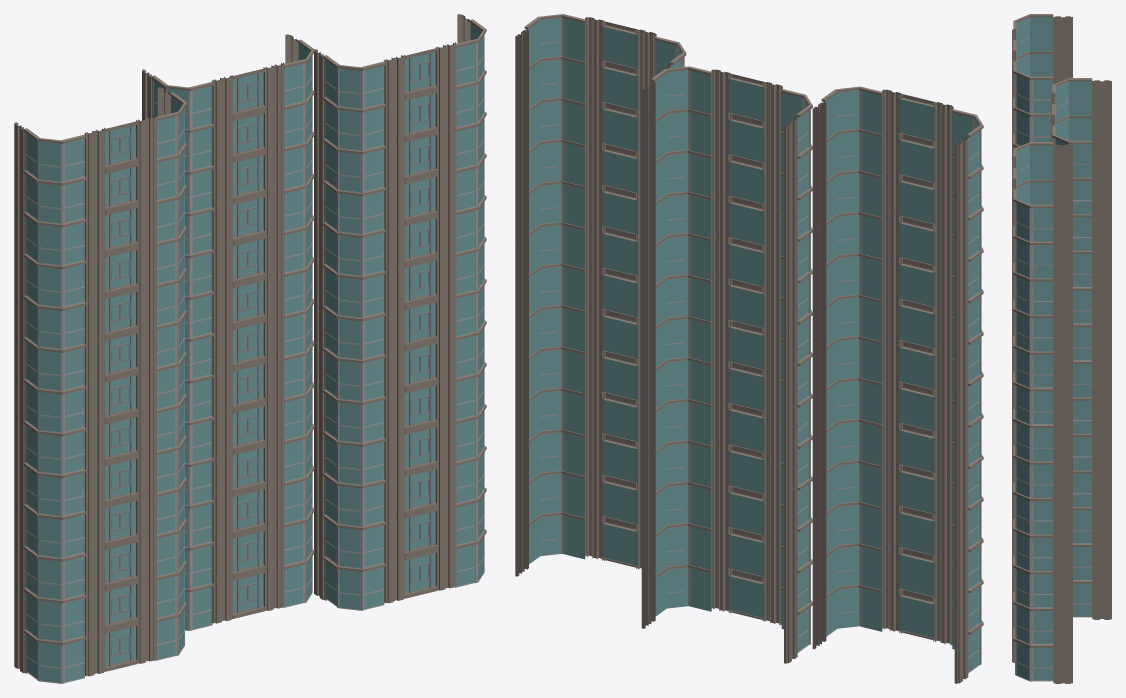
The model's file is 99WestApartments.fbx.
3 renders of one model, left to right at view 1: azimuth 30°, elevation 25°; view 2: azimuth 150°, elevation 25°; view 3: azimuth 270°, elevation 25°, orthographic. The views are drawn at different scales.
Visible parts, largest first — view 1: pCube95, pCube115, pCube120, pCube83, pCube112, pCube114, pCube118, pCube92, pCube93, pCube110, pCube94, pCube109 (+27 smaller); view 2: pCube95, pCube102, pCube87, pCube83, pCube94, pCube91, pCube86, pCube88, pCube90, pCube85, pCube89, pCube84 (+27 smaller); view 3: pCube115, pCube102, pCube95, pCube114, pCube101, pCube94, pCube120, pCube113, pCube109, pCube119, pCube111, pCube121 (+16 smaller).
Boxes of the visible parts, box(x1,y1,x2,y2) form: pCube95: box(14, 87, 186, 182); pCube115: box(314, 14, 486, 109); pCube120: box(314, 529, 486, 610); pCube83: box(14, 602, 186, 683); pCube112: box(314, 237, 486, 318); pCube114: box(314, 70, 486, 151); pCube118: box(314, 404, 486, 485); pCube92: box(14, 226, 186, 307); pCube93: box(14, 184, 186, 265); pCube110: box(314, 153, 486, 234); pCube94: box(14, 143, 186, 224); pCube109: box(314, 195, 486, 276); pCube95: box(812, 86, 983, 186); pCube102: box(641, 66, 812, 166); pCube87: box(812, 419, 983, 517); pCube83: box(812, 584, 983, 683); pCube94: box(812, 129, 983, 227); pCube91: box(812, 253, 983, 352); pCube86: box(812, 460, 983, 559); pCube88: box(812, 377, 983, 476); pCube90: box(812, 294, 983, 393); pCube85: box(812, 502, 983, 600); pCube89: box(812, 336, 983, 435); pCube84: box(812, 543, 983, 642); pCube115: box(1012, 142, 1072, 244); pCube102: box(1051, 78, 1111, 180); pCube95: box(1012, 14, 1072, 113); pCube114: box(1012, 179, 1072, 281); pCube101: box(1055, 115, 1111, 217); pCube94: box(1012, 51, 1072, 145); pCube120: box(1012, 625, 1072, 683); pCube113: box(1012, 259, 1072, 317); pCube109: box(1012, 332, 1072, 390); pCube119: box(1012, 442, 1072, 500); pCube111: box(1012, 390, 1072, 464); pCube121: box(1012, 589, 1072, 647).
Size of the model in its own units: 136 by 159 by 29.99.
